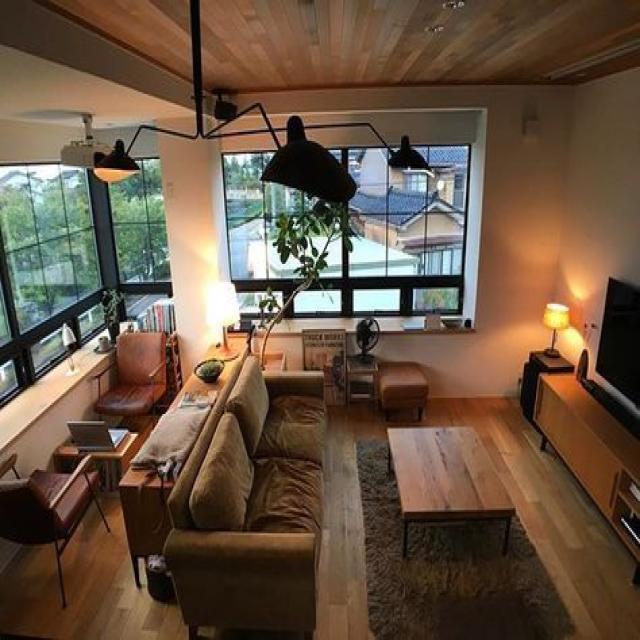vintage chair: (0, 451, 115, 615), (88, 326, 168, 424)
vintage desk: (382, 424, 514, 562), (55, 427, 133, 482)
vintage shelf: (532, 367, 640, 581)
vintage sofa: (162, 361, 324, 640)
